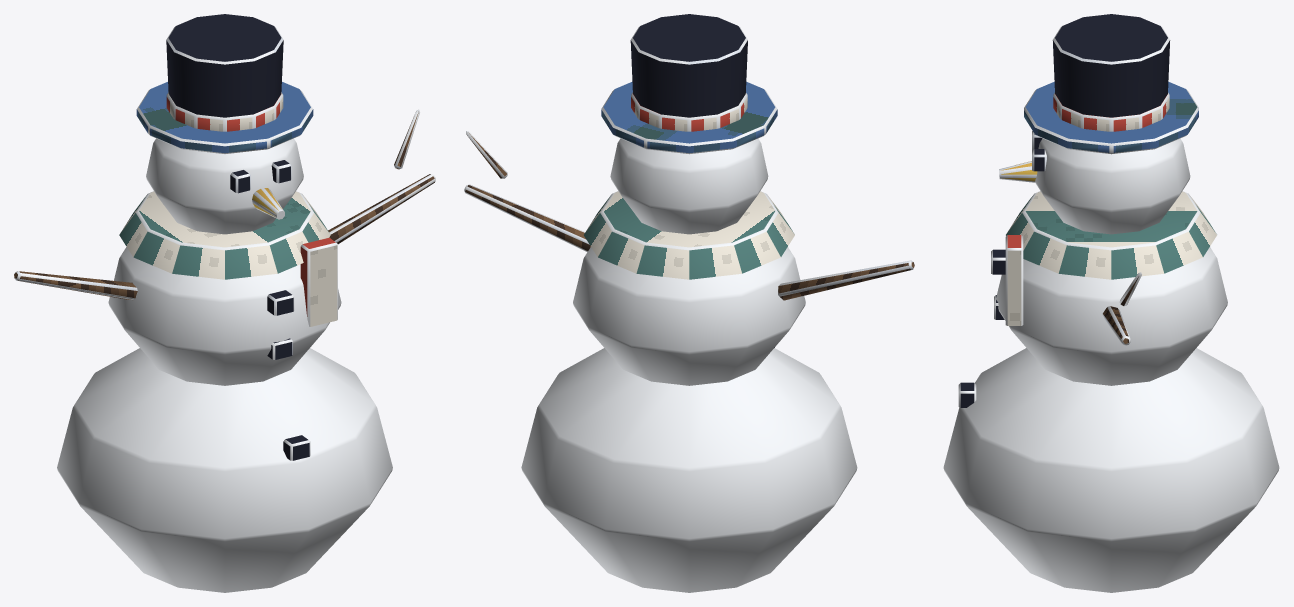
Rendered from spec_snowman_1.glb.
3 renders of one model, left to right at view 1: azimuth 30°, elevation 25°; view 2: azimuth 150°, elevation 25°; view 3: azimuth 270°, elevation 25°, orthographic.
Parts seen in each view (by area): view 1: spec_snowman_1; view 2: spec_snowman_1; view 3: spec_snowman_1.
Part boxes in pixels (bbox=[...]): spec_snowman_1: bbox=[14, 14, 435, 592]; spec_snowman_1: bbox=[464, 14, 914, 592]; spec_snowman_1: bbox=[943, 14, 1279, 592].
Bounding box in the file's own units: 1.71 × 1.94 × 1.14.
Materials: 7 (7 with a texture image).
